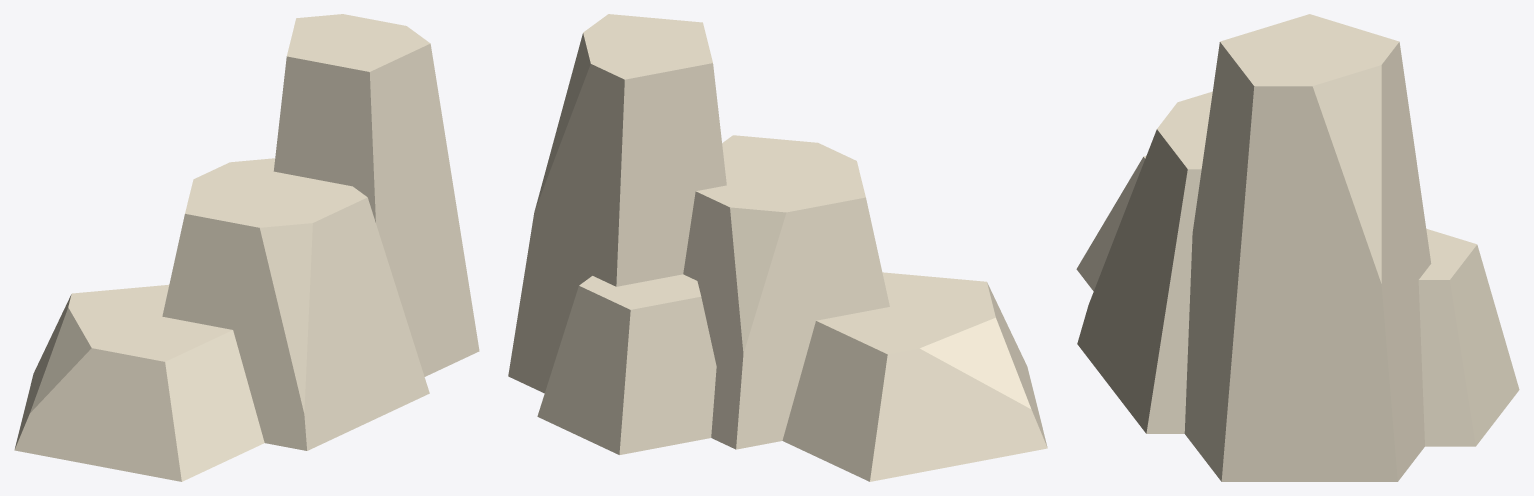
File: Stone 3.fbx
3 renders of one model, left to right at view 1: azimuth 30°, elevation 25°; view 2: azimuth 150°, elevation 25°; view 3: azimuth 270°, elevation 25°, orthographic. The views are drawn at different scales.
Parts seen in each view (by area): view 1: rockC; view 2: rockC; view 3: rockC.
Boxes of the visible parts, x1,y1,x2,y2 form: rockC: [14, 14, 479, 481]; rockC: [508, 14, 1047, 481]; rockC: [1076, 14, 1519, 481].
Bounding box in the file's own units: 2.92 × 1.9 × 2.04.
